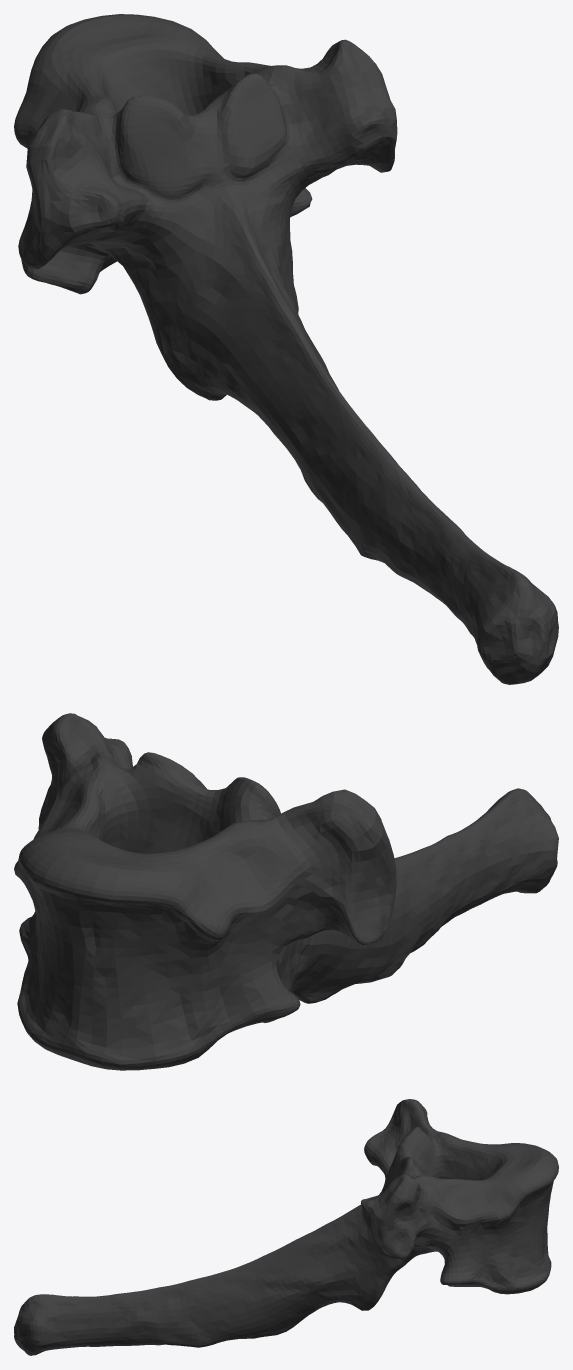
The picture shows the model from 3 angles, top to bottom: view 1: azimuth 30°, elevation 25°; view 2: azimuth 150°, elevation 25°; view 3: azimuth 270°, elevation 25°; orthographic projection. The views are drawn at different scales.
Parts seen in each view (by area): view 1: t4_low; view 2: t4_low; view 3: t4_low.
Part boxes in pixels (left/top/right/bottom): t4_low: left=14, top=14, right=558, bottom=684; t4_low: left=14, top=713, right=558, bottom=1070; t4_low: left=14, top=1099, right=558, bottom=1355.
Bounding box in the file's own units: 34.46 × 35.43 × 79.46.
1 material, 1 textured.
